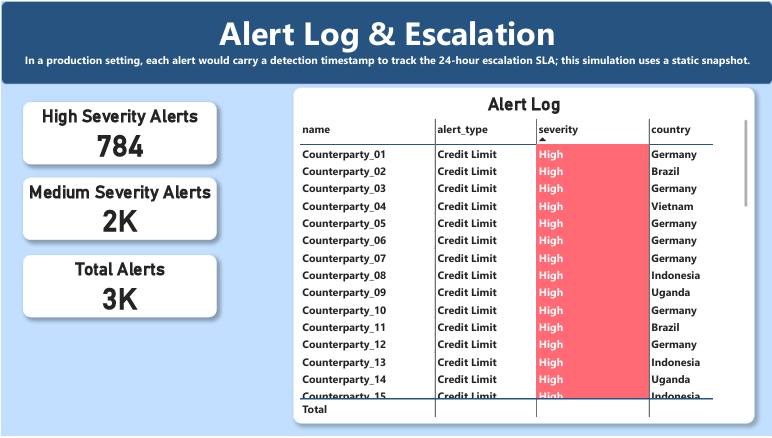

Layout of this report page (visuals, bound fields, positions):
{"tool":"powerbi","page":{"name":"Alert Log & Escalation","canvas":[1920,1080],"ordinal":3},"visuals":[{"type":"textbox","box":[0,0,1920,205],"z":0},{"type":"tableEx","title":"Alert Log","fields":{"Values":["Alert_CreditLimit.name","Alert_CreditLimit.alert_type","Alert_CreditLimit.severity","counterparties.country"]},"box":[725,212.5,1147.5,835],"z":2000},{"type":"cardVisual","title":"High Severity Alerts","fields":{"Data":["Alerts.High Severity Alerts"]},"box":[52.5,249.2,482.5,155],"z":2001},{"type":"cardVisual","title":"Medium Severity Alerts","fields":{"Data":["Alerts.Medium Severity Alerts"]},"box":[52.5,436.7,482.5,155],"z":2002},{"type":"cardVisual","title":"Total Alerts","fields":{"Data":["Alerts.Total Alerts"]},"box":[52.5,629.2,482.5,155],"z":2003}]}

Visuals, with their boxes in screenshot pixels (x1, y1, x2, y2), scaled from the page's 1920x1080 canvas onto the 772x438 screenshot:
textbox: box=[0, 0, 771, 83]
"Alert Log" tableEx: box=[292, 86, 753, 425]
"High Severity Alerts" cardVisual: box=[21, 101, 215, 164]
"Medium Severity Alerts" cardVisual: box=[21, 177, 215, 240]
"Total Alerts" cardVisual: box=[21, 255, 215, 318]
